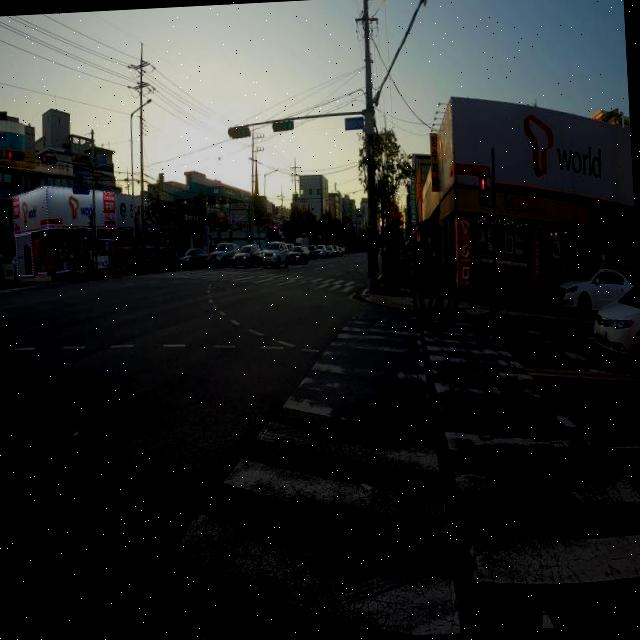crosswalk: (102, 300, 640, 640), (123, 269, 367, 296)
